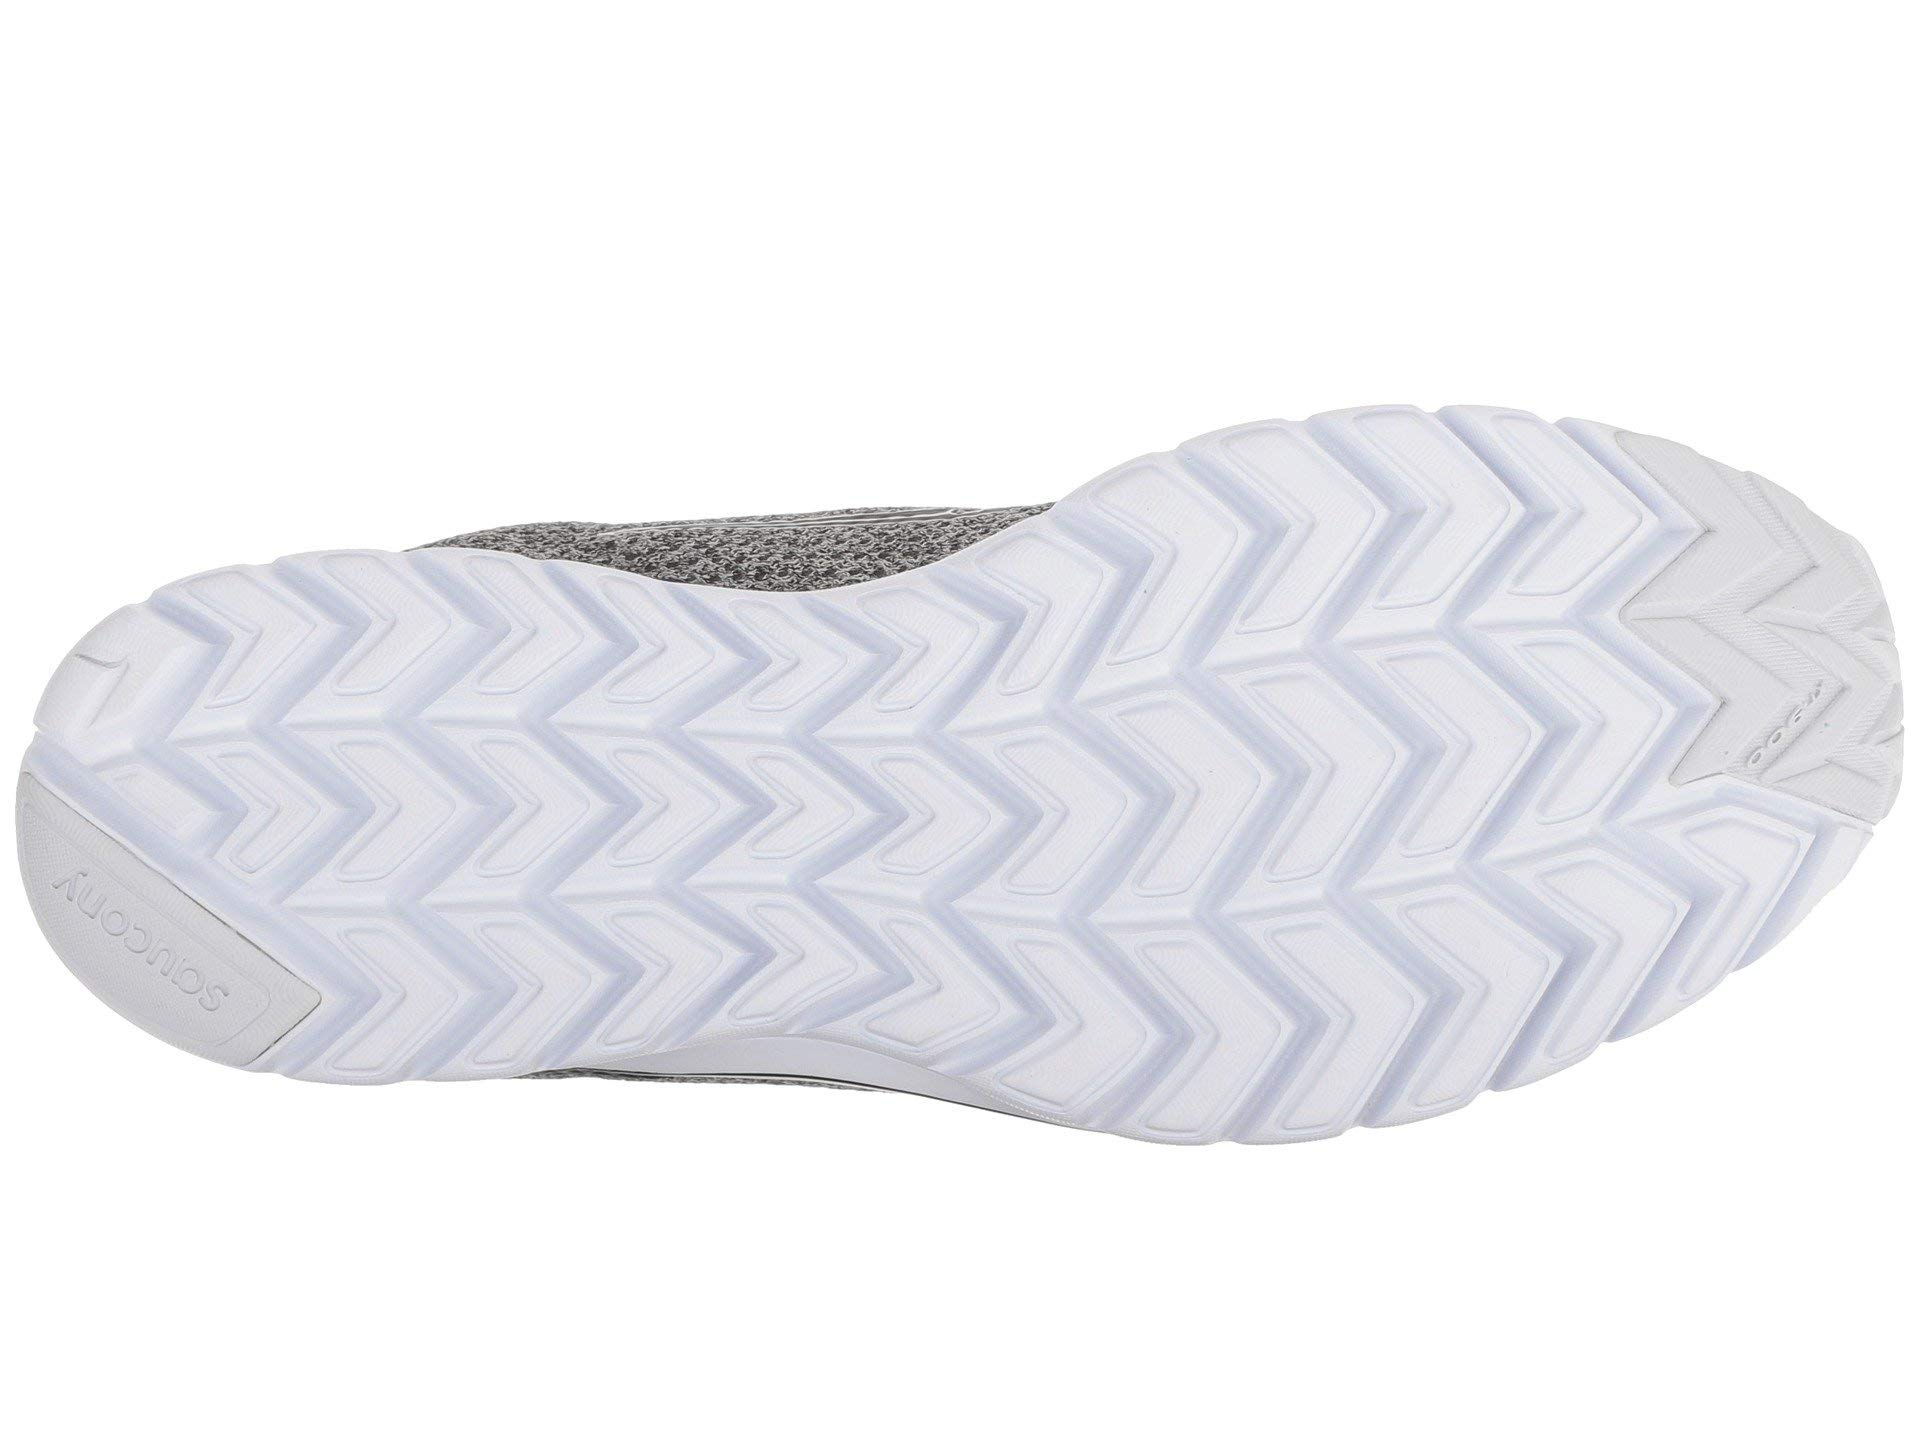chevron: (1045, 534, 1607, 1030), (587, 635, 1033, 1026), (231, 628, 568, 964), (1612, 510, 1918, 821)
circle: (45, 847, 228, 1036)
line: (1045, 534, 1607, 1030), (587, 635, 1033, 1026), (231, 628, 568, 964), (1612, 510, 1918, 821)
text: (1612, 510, 1918, 821), (45, 847, 228, 1036)
